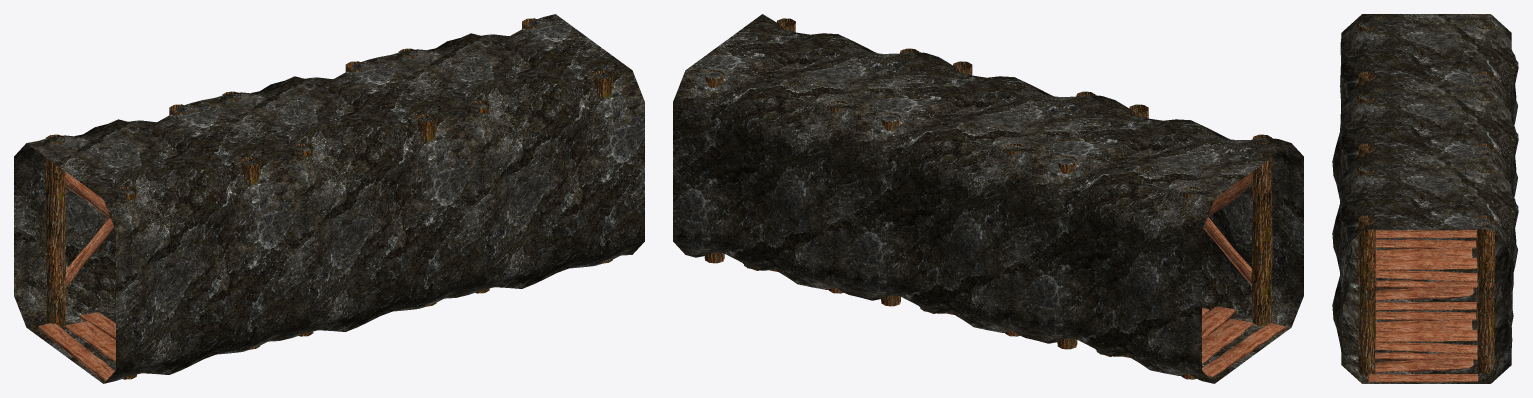
File: Cave_024.fbx
The picture shows the model from 3 angles, left to right: view 1: azimuth 30°, elevation 25°; view 2: azimuth 150°, elevation 25°; view 3: azimuth 270°, elevation 25°; orthographic projection. The views are drawn at different scales.
Visible parts, largest first — view 1: Cave.024; view 2: Cave.024; view 3: Cave.024.
Boxes of the visible parts, x1,y1,x2,y2 form: Cave.024: [14, 14, 644, 383]; Cave.024: [673, 14, 1303, 383]; Cave.024: [1332, 14, 1518, 383].
Size of the model in its own units: 900 by 313 by 328.
